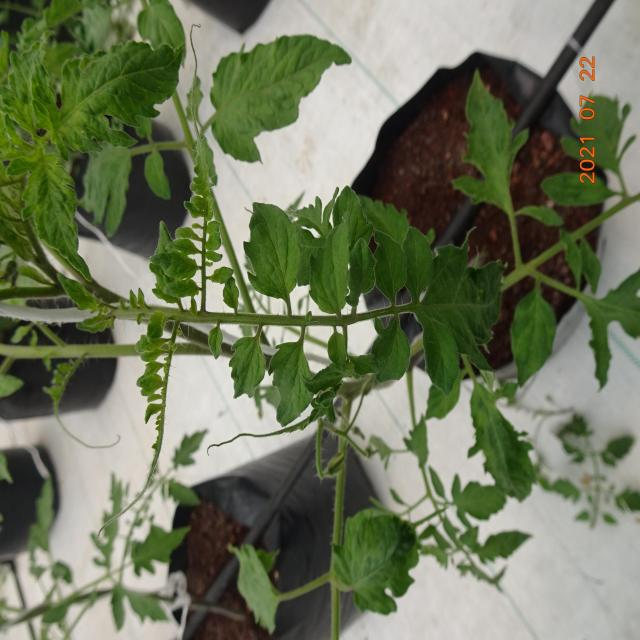T_L_R: (60, 43, 182, 153), (24, 154, 91, 281), (245, 204, 302, 316), (270, 328, 314, 426), (311, 213, 351, 318), (417, 314, 460, 398), (372, 316, 411, 383), (230, 328, 266, 399), (375, 231, 407, 308), (404, 228, 434, 304), (347, 239, 376, 311)
